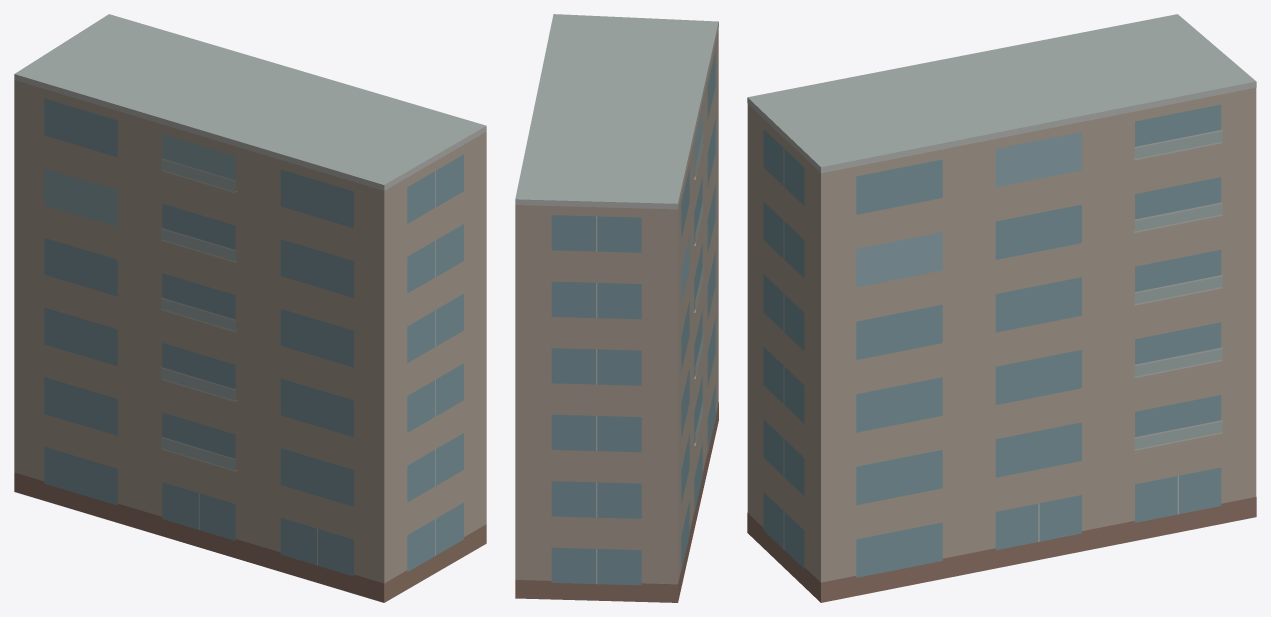
The model's file is survey-upis-32730250.glb.
The picture shows the model from 3 angles, left to right: view 1: azimuth 30°, elevation 25°; view 2: azimuth 150°, elevation 25°; view 3: azimuth 270°, elevation 25°; orthographic projection. The views are drawn at different scales.
Parts seen in each view (by area): view 1: survey-upis-32730250.tmp; view 2: survey-upis-32730250.tmp; view 3: survey-upis-32730250.tmp.
Part boxes in pixels (left/top/right/bottom): survey-upis-32730250.tmp: left=14, top=14, right=486, bottom=602; survey-upis-32730250.tmp: left=515, top=14, right=718, bottom=602; survey-upis-32730250.tmp: left=747, top=14, right=1256, bottom=602.
Size of the model in its own units: 13.22 by 17.5 by 18.54.
